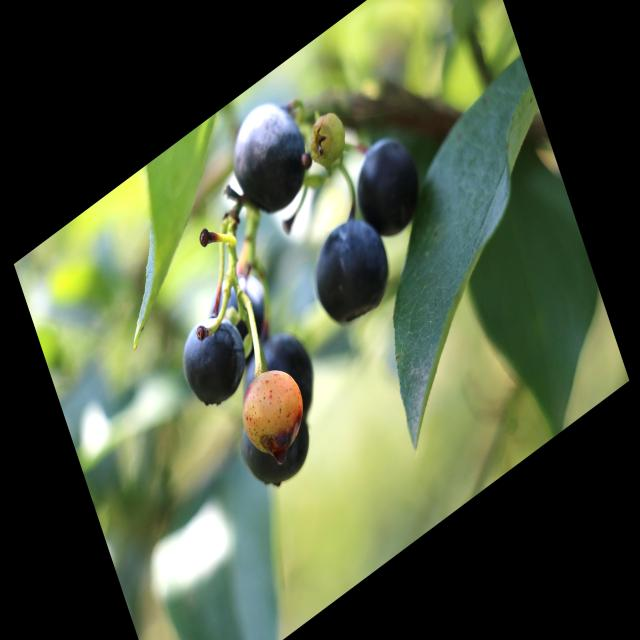blueberry: (299, 197, 402, 347), (220, 84, 319, 236), (238, 308, 330, 443), (344, 124, 428, 258), (168, 299, 253, 428), (233, 389, 317, 505), (204, 244, 284, 364)
blueberry-unripe: (232, 352, 311, 465), (304, 104, 350, 170)
